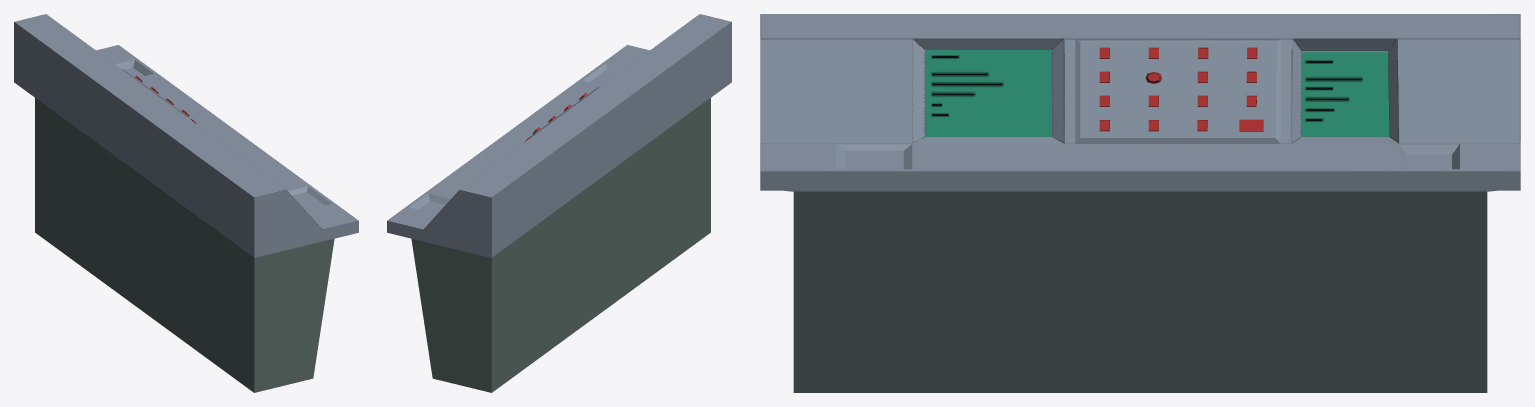
File: panel.fbx
3 views of the same model, side by side, from view 1: azimuth 30°, elevation 25°; view 2: azimuth 150°, elevation 25°; view 3: azimuth 270°, elevation 25° (orthographic). The views are drawn at different scales.
Parts seen in each view (by area): view 1: pCube2; view 2: pCube2; view 3: pCube2.
Part boxes in pixels (<box>): pCube2: <box>14,14,358,392</box>; pCube2: <box>387,14,731,392</box>; pCube2: <box>760,14,1520,392</box>.
Bounding box in the file's own units: 0.7941 × 1.49 × 3.16.
